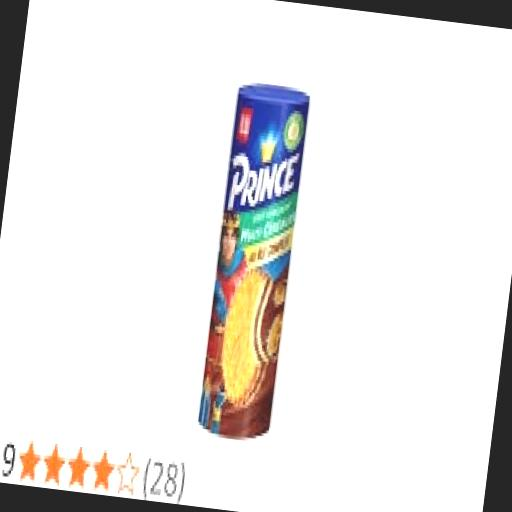prince: (105, 55, 440, 512)
